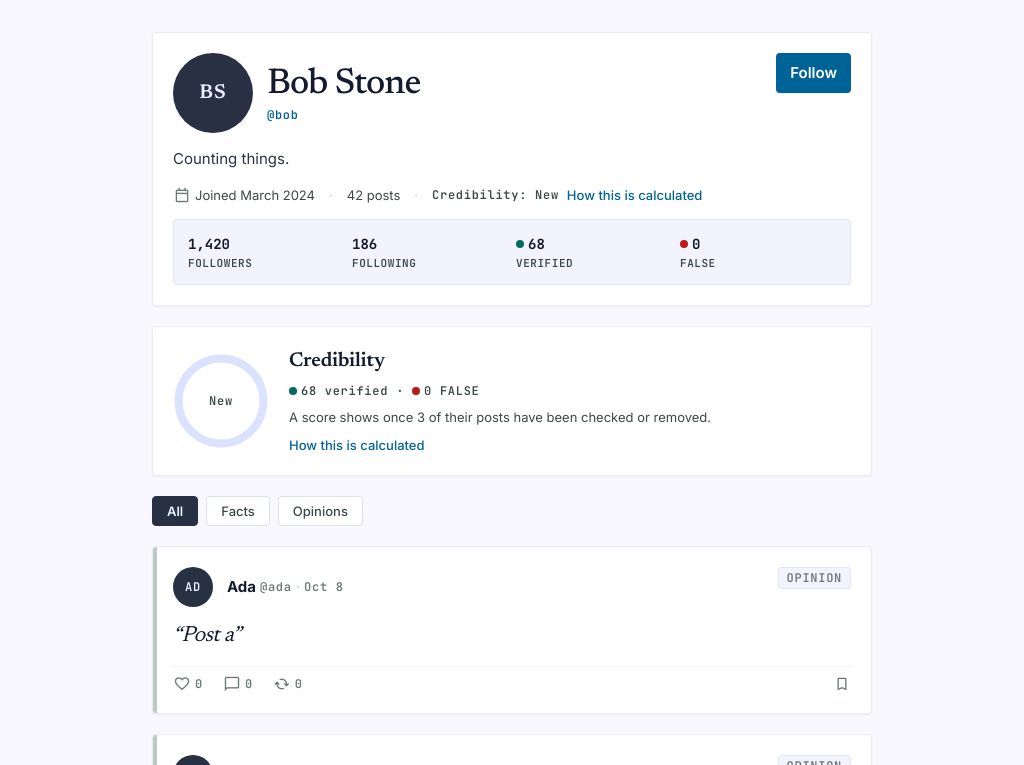
Test: ProfilePage: following › moves the follower count at once and puts it back when the request fails
The image size is (1024, 765).
expect the text "1,420" is shown: met, box top-left (188, 234), bottom-right (230, 254)
Click the button "Follow". click: (814, 73)
box: top-left (776, 53), bottom-right (851, 93)
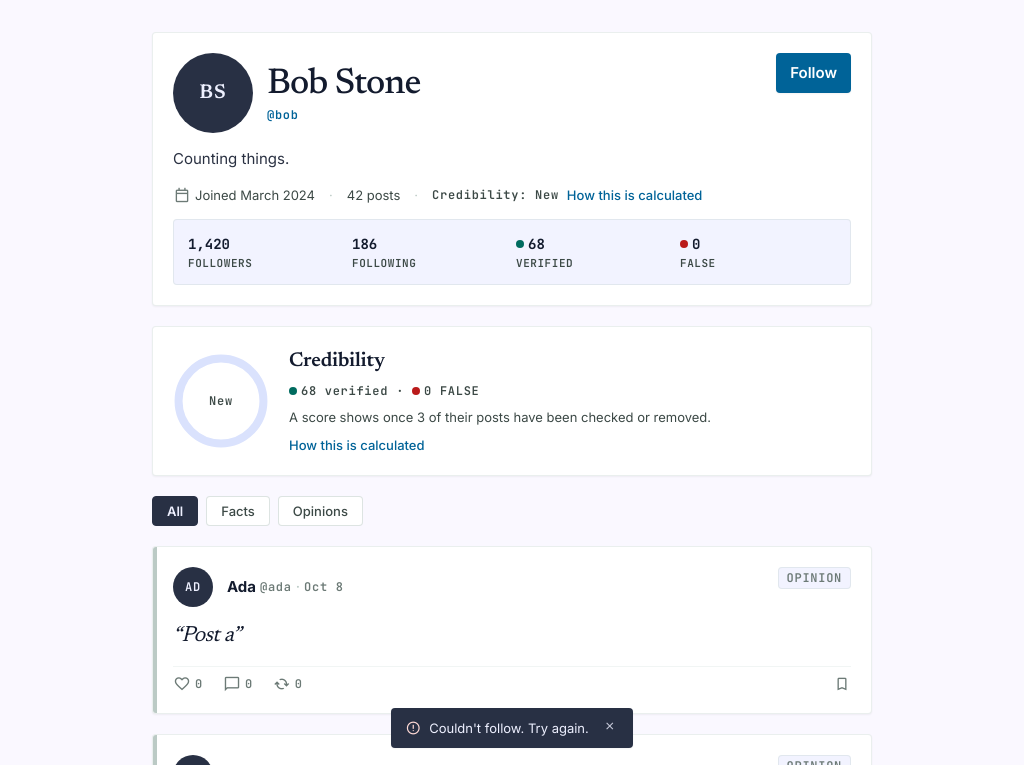
expect the text "1,420" is shown: met, box top-left (188, 234), bottom-right (230, 254)
expect the text "Couldn't follow. Try again." is shown: met, box top-left (429, 718), bottom-right (589, 738)
Click the button "Follow". click: (814, 73)
box: top-left (776, 53), bottom-right (851, 93)
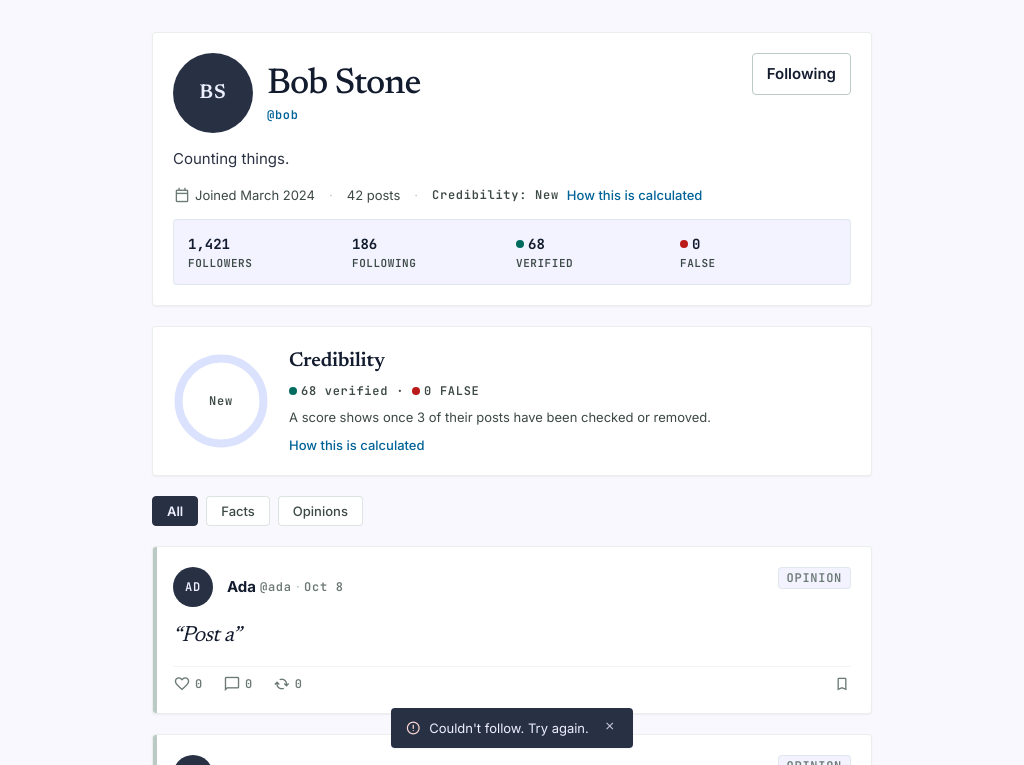
expect the text "1,421" is shown: met, box top-left (188, 234), bottom-right (230, 254)
Click the button "Following". click: (801, 74)
box: top-left (752, 53), bottom-right (851, 95)
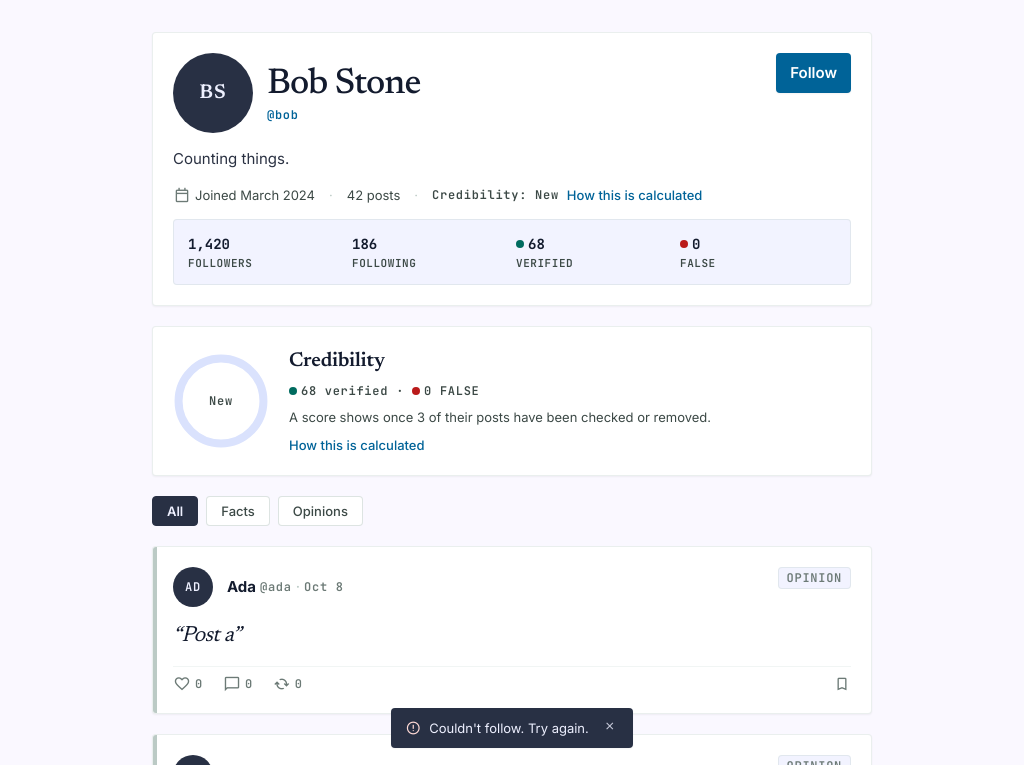
expect the text "1,420" is shown: met, box top-left (188, 234), bottom-right (230, 254)
